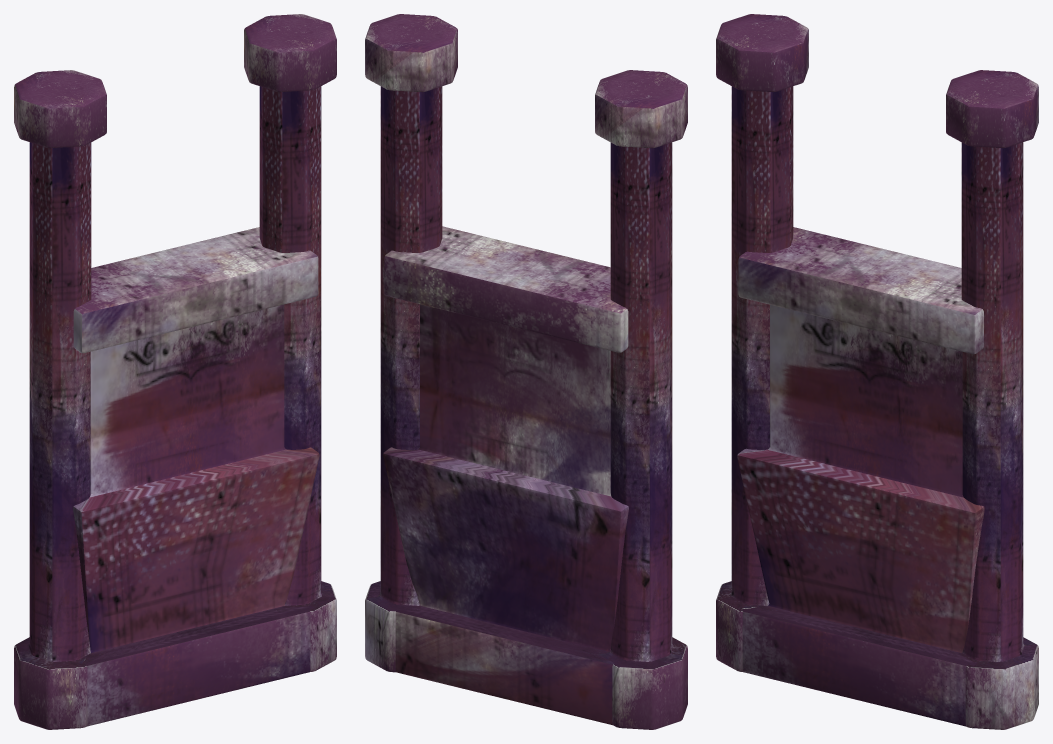
The model's file is MANOR_WALL_1_2_001.obj.
The picture shows the model from 3 angles, left to right: view 1: azimuth 30°, elevation 25°; view 2: azimuth 150°, elevation 25°; view 3: azimuth 330°, elevation 25°; orthographic projection.
Parts seen in each view (by area): view 1: MANOR_WALL_1_2_001; view 2: MANOR_WALL_1_2_001; view 3: MANOR_WALL_1_2_001.
Boxes of the visible parts, box(x1,y1,x2,y2) form: MANOR_WALL_1_2_001: box(14, 14, 336, 729); MANOR_WALL_1_2_001: box(365, 14, 687, 729); MANOR_WALL_1_2_001: box(716, 14, 1038, 729).
Bounding box in the file's own units: 1.57 × 3 × 0.4139.
